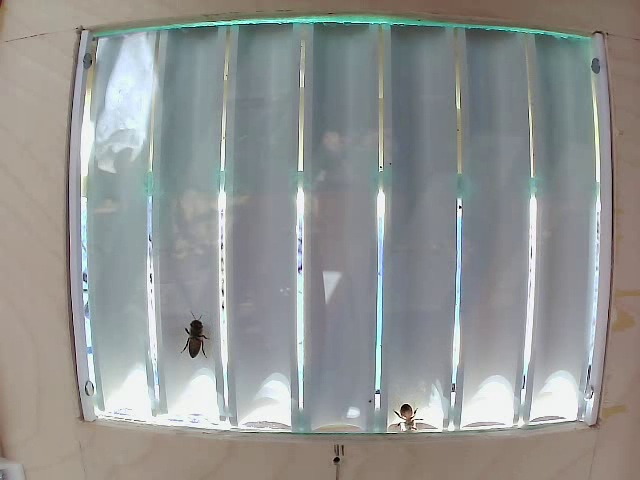bee: (172, 312, 231, 375), (381, 389, 431, 436)
